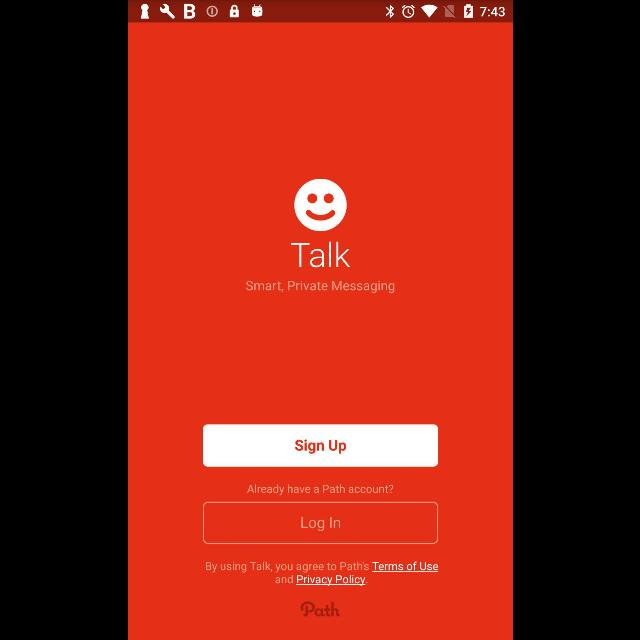image: (294, 178, 346, 232), (300, 602, 340, 616)
text: (205, 562, 438, 586), (244, 280, 394, 294), (246, 484, 392, 496), (290, 242, 350, 268)
textbutton: (202, 502, 438, 544), (202, 425, 438, 467)
uppertaskbar: (128, 1, 512, 23)
